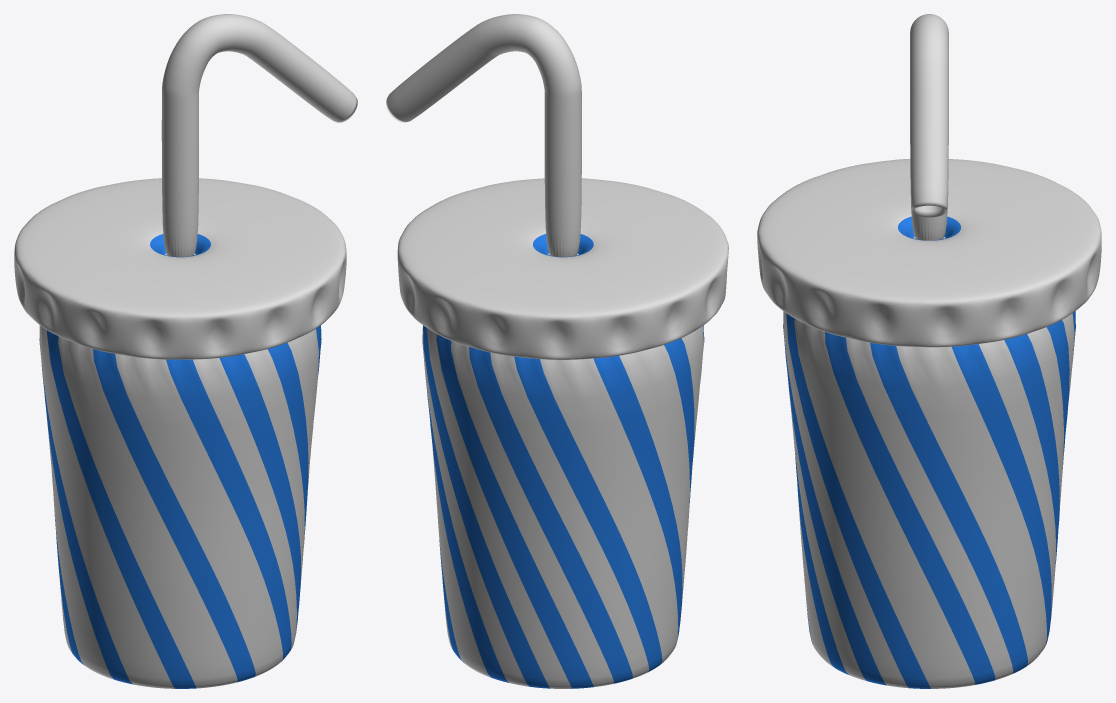
The model's file is FNaFCup.fbx.
3 renders of one model, left to right at view 1: azimuth 30°, elevation 25°; view 2: azimuth 150°, elevation 25°; view 3: azimuth 270°, elevation 25°, orthographic. The views are drawn at different scales.
Parts seen in each view (by area): view 1: Bone; view 2: Bone; view 3: Bone.
Part boxes in pixels (x1=…): Bone: x1=14, y1=14, x2=357, y2=688; Bone: x1=386, y1=14, x2=728, y2=688; Bone: x1=757, y1=14, x2=1101, y2=688.
Bounding box in the file's own units: 281 × 523 × 254.
